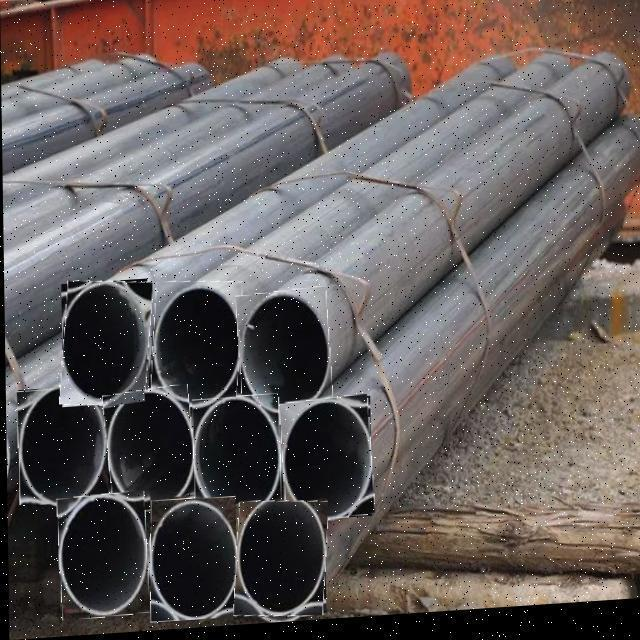pipe: (235, 290, 332, 420), (101, 387, 197, 516), (278, 399, 373, 527), (55, 493, 147, 621), (58, 281, 151, 407), (149, 285, 242, 410), (16, 386, 107, 506), (192, 397, 280, 521), (232, 504, 326, 620), (148, 500, 234, 624)
